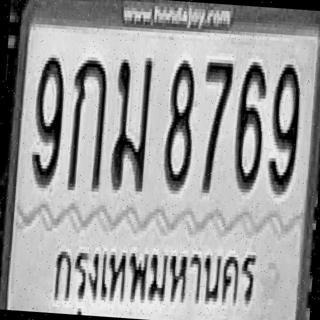A01: (65, 56, 108, 192)
A33: (109, 54, 153, 190)
N06: (233, 60, 268, 192)
N07: (197, 58, 233, 194)
N08: (161, 58, 197, 190)
N09: (30, 53, 66, 185), (266, 60, 302, 192)
P04: (48, 227, 262, 320)
